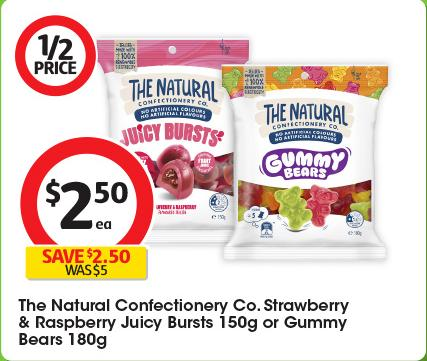description_block: (8, 291, 366, 347)
price_main: (22, 133, 153, 245)
product_image_block: (106, 31, 398, 272)
promo_text_block: (14, 241, 155, 285)
